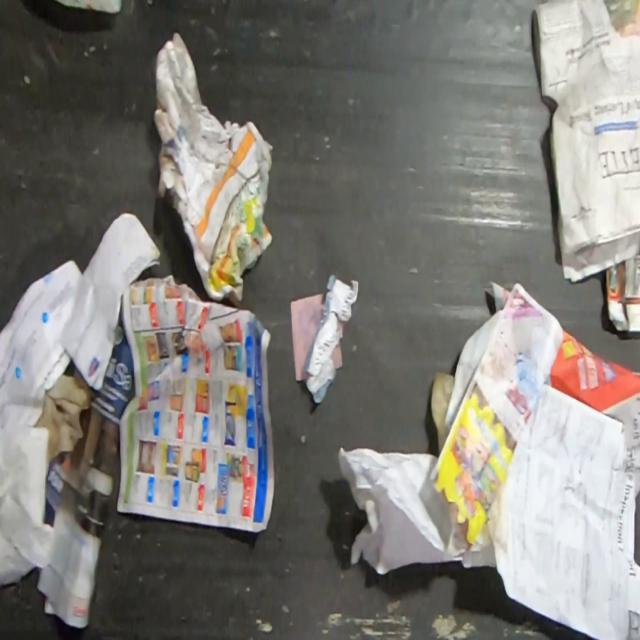cardboard: (604, 252, 640, 334), (428, 370, 455, 456)
